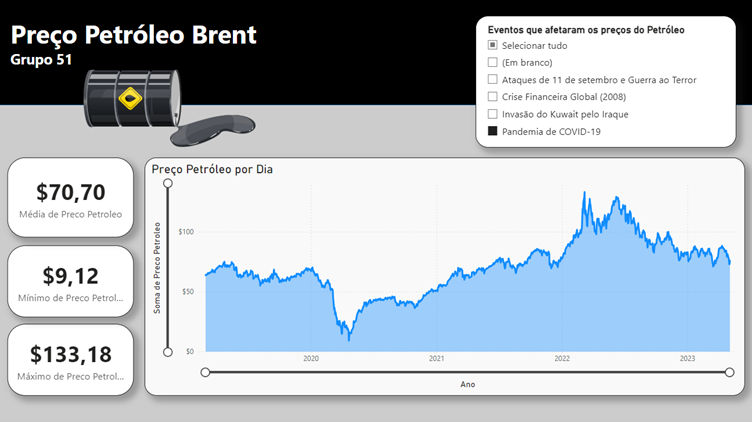

Layout of this report page (visuals, bound fields, positions):
{"tool":"powerbi","page":{"name":"Página 1","canvas":[1280,720],"ordinal":0},"visuals":[{"type":"lineChart","title":"Preço Petróleo por Dia","fields":{"Y":["Sum(PRECO_PETROLEO - Página1.Preco Petroleo)"],"Category":["PRECO_PETROLEO - Página1.Data.Variation.Hierarquia de datas.Ano","PRECO_PETROLEO - Página1.Data.Variation.Hierarquia de datas.Trimestre","PRECO_PETROLEO - Página1.Data.Variation.Hierarquia de datas.Mês","PRECO_PETROLEO - Página1.Data.Variation.Hierarquia de datas.Dia"]},"box":[249.7,269,1011.3,400.7],"z":0},{"type":"card","fields":{"Values":["Max(PRECO_PETROLEO - Página1.Preco Petroleo)"]},"box":[17.8,548.9,212.7,120.8],"z":1000},{"type":"card","fields":{"Values":["Min(PRECO_PETROLEO - Página1.Preco Petroleo)"]},"box":[17.8,417.2,212.7,120.8],"z":2000},{"type":"card","fields":{"Values":["Avg(PRECO_PETROLEO - Página1.Preco Petroleo)"]},"box":[17.8,269,212.7,134.5],"z":3000},{"type":"shape","box":[0,0,1280.3,181.1],"z":4000},{"type":"textbox","title":"Preço Petróleo","box":[18.3,25.7,440.2,116.2],"z":5000},{"type":"slicer","fields":{"Values":["Página1.Eventos"]},"box":[807.1,30.6,439,221.3],"z":6000},{"type":"image","box":[141.8,36.7,299.6,299.6],"z":7000}]}

Visuals, with their boxes in screenshot pixels (x1, y1, x2, y2), scaled from the page's 1280x720 canvas onto the 752x422 screenshot:
"Preço Petróleo por Dia" lineChart: x1=147, y1=158, x2=741, y2=393
card - Max(PRECO_PETROLEO - Página1.Preco Petroleo): x1=10, y1=322, x2=135, y2=393
card - Min(PRECO_PETROLEO - Página1.Preco Petroleo): x1=10, y1=245, x2=135, y2=315
card - Avg(PRECO_PETROLEO - Página1.Preco Petroleo): x1=10, y1=158, x2=135, y2=236
shape: x1=0, y1=0, x2=751, y2=106
"Preço Petróleo" textbox: x1=11, y1=15, x2=269, y2=83
slicer - Página1.Eventos: x1=474, y1=18, x2=732, y2=148
image: x1=83, y1=22, x2=259, y2=197
